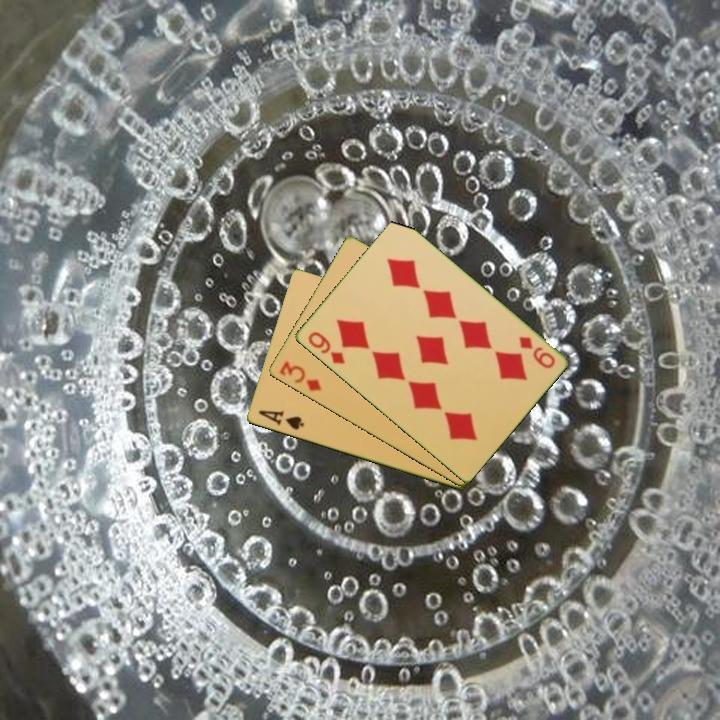3d: (275, 358, 324, 394)
9d: (304, 328, 348, 367), (515, 333, 558, 372)
As: (255, 407, 307, 433)
